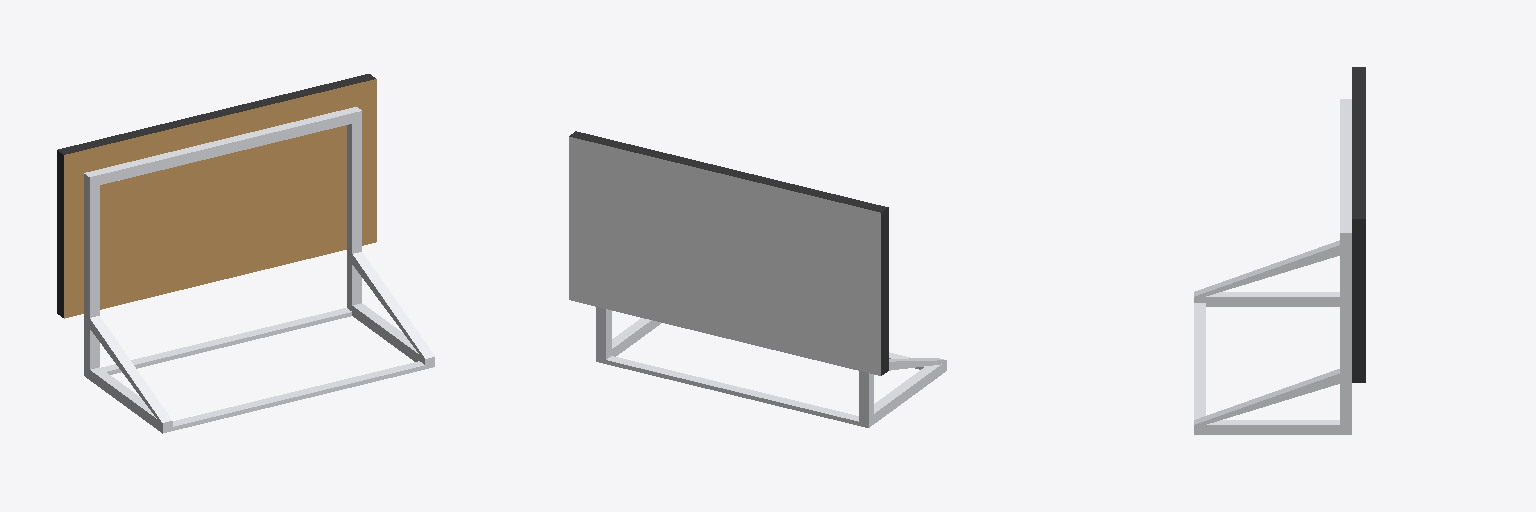
File: billboardLow.obj
3 views of the same model, side by side, from view 1: azimuth 30°, elevation 25°; view 2: azimuth 150°, elevation 25°; view 3: azimuth 270°, elevation 25° (orthographic).
Visible parts, largest first — view 1: billboardLow; view 2: billboardLow; view 3: billboardLow.
Boxes of the visible parts, x1=… form: billboardLow: x1=57, y1=74, x2=434, y2=433; billboardLow: x1=569, y1=131, x2=946, y2=427; billboardLow: x1=1194, y1=67, x2=1365, y2=434.
Bounding box in the file's own units: 1 × 0.69 × 0.4762.